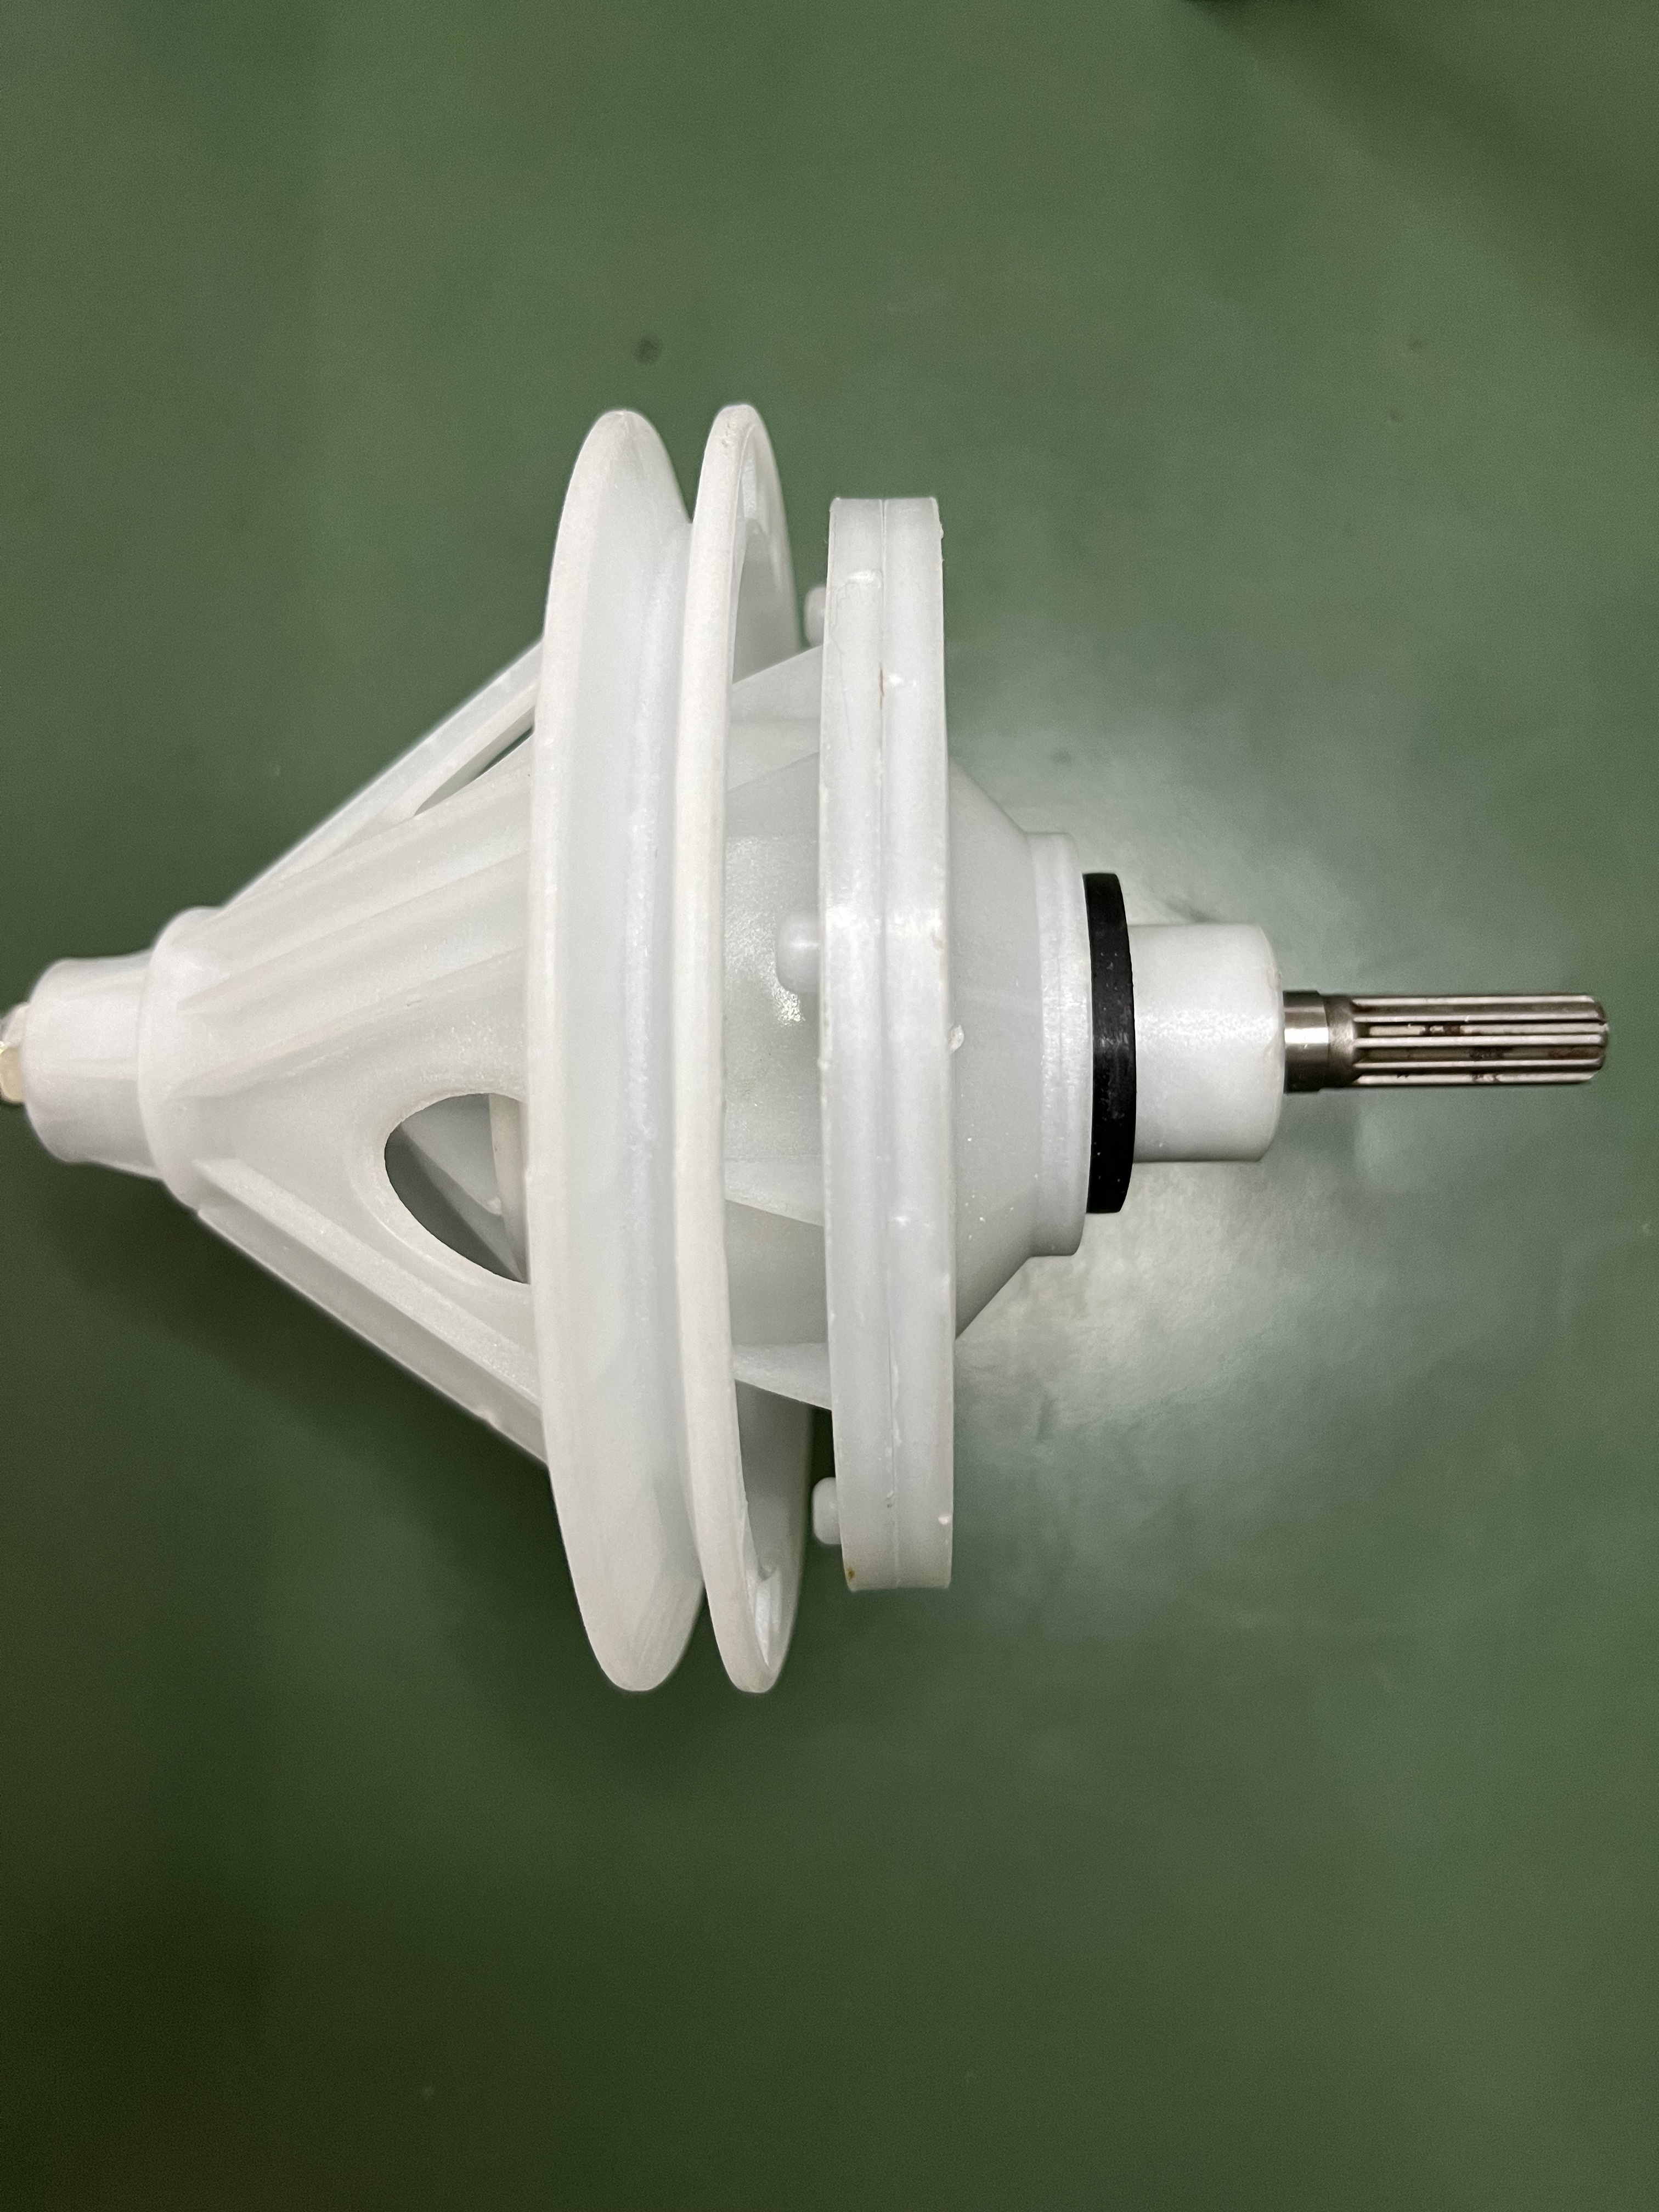gear_box_circle: (34, 409, 1612, 1698)
